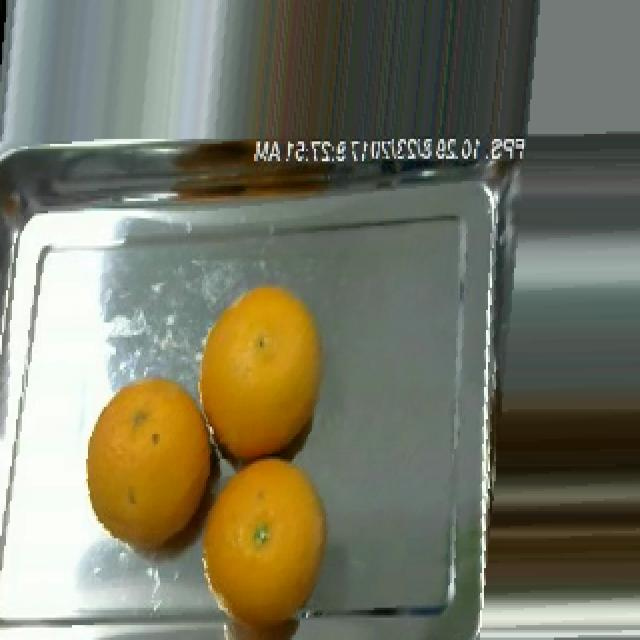Fruit: (184, 268, 338, 486), (184, 441, 344, 640), (74, 360, 226, 568), (242, 0, 366, 144)
